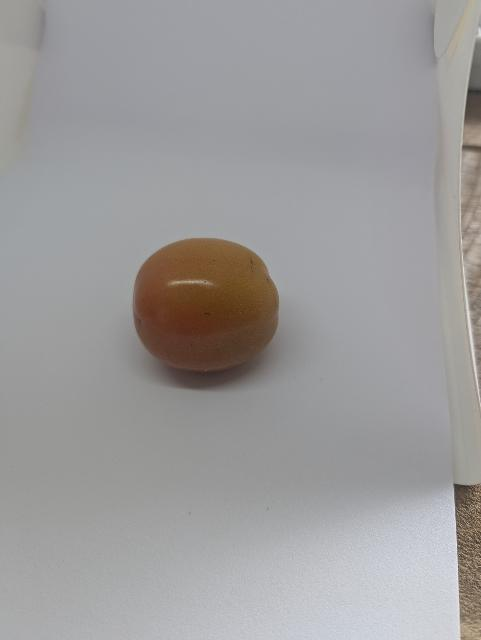turning: (130, 237, 287, 379)
